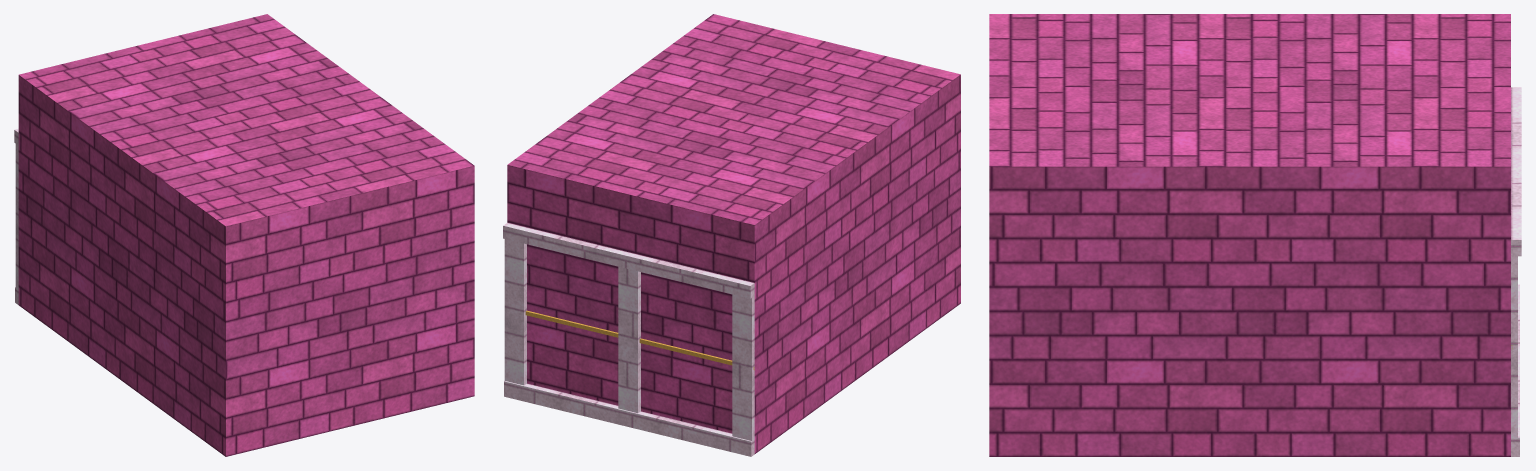
Rendered from citadel_stair_seal.glb.
3 renders of one model, left to right at view 1: azimuth 30°, elevation 25°; view 2: azimuth 150°, elevation 25°; view 3: azimuth 270°, elevation 25°, orthographic. The views are drawn at different scales.
Parts seen in each view (by area): view 1: seal_Citadel_Stone, seal_Citadel_Limestone; view 2: seal_Citadel_Stone, seal_Citadel_Limestone, seal_Citadel_Gold; view 3: seal_Citadel_Stone, seal_Citadel_Limestone.
Boxes of the visible parts, x1,y1,x2,y2 form: seal_Citadel_Stone: (18,14,474,456); seal_Citadel_Limestone: (14,128,18,304); seal_Citadel_Stone: (507,14,960,453); seal_Citadel_Limestone: (503,222,754,456); seal_Citadel_Gold: (525,310,754,370); seal_Citadel_Stone: (989,14,1510,456); seal_Citadel_Limestone: (1511,87,1521,456).
Size of the model in its own units: 10.12 by 8.96 by 14.9.
3 materials, 3 textured.
